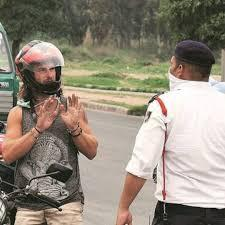helmet: (14, 38, 71, 105)
